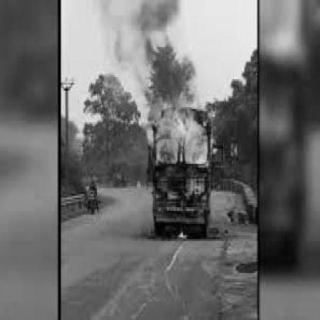Fire: (136, 83, 226, 179), (166, 217, 194, 245)
